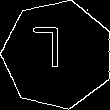L_S: (42, 29, 74, 80)
